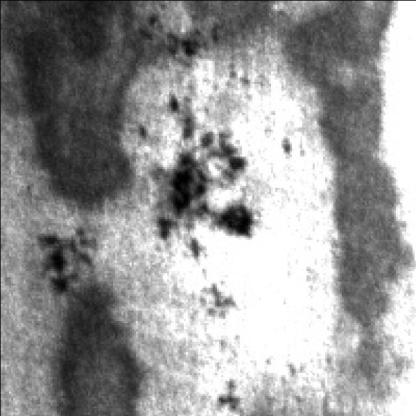inclusion: (148, 85, 262, 248), (39, 223, 98, 296)
patches: (293, 0, 416, 322), (16, 0, 140, 204), (50, 281, 146, 414), (177, 0, 289, 50)
